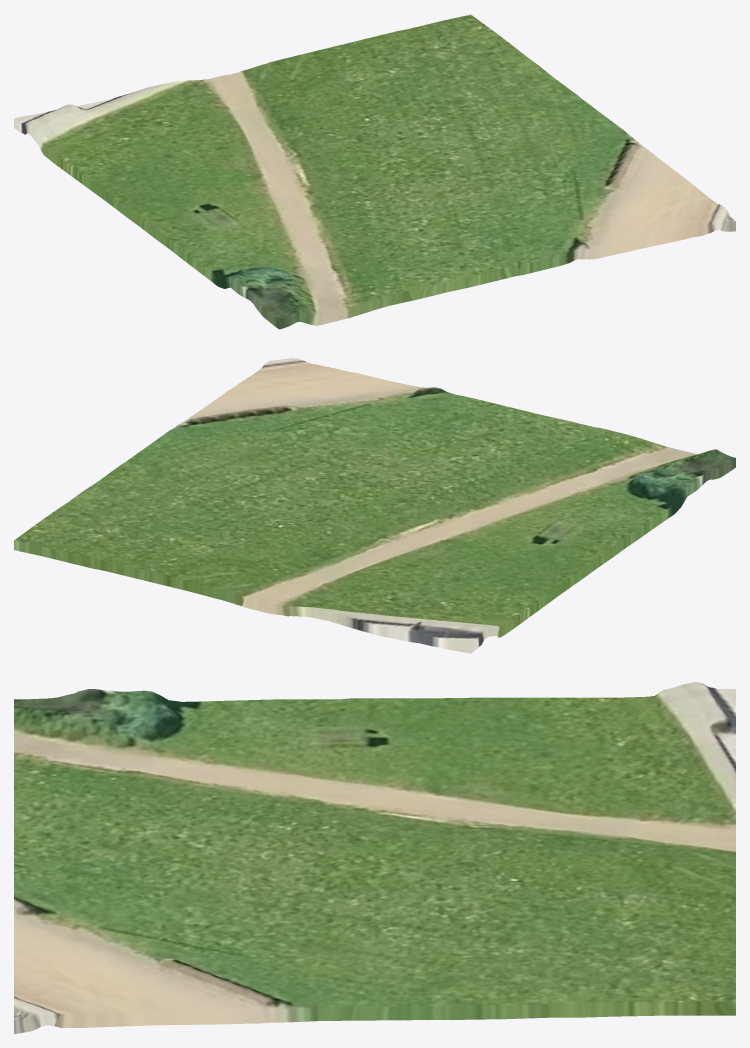
File: z20-167567-405174-h0-yup-uvflip-v3-world.glb
The picture shows the model from 3 angles, top to bottom: view 1: azimuth 30°, elevation 25°; view 2: azimuth 150°, elevation 25°; view 3: azimuth 270°, elevation 25°; orthographic projection. The views are drawn at different scales.
Size of the model in its own units: 30.16 by 2.24 by 30.32.
Materials: 1 (1 with a texture image).
